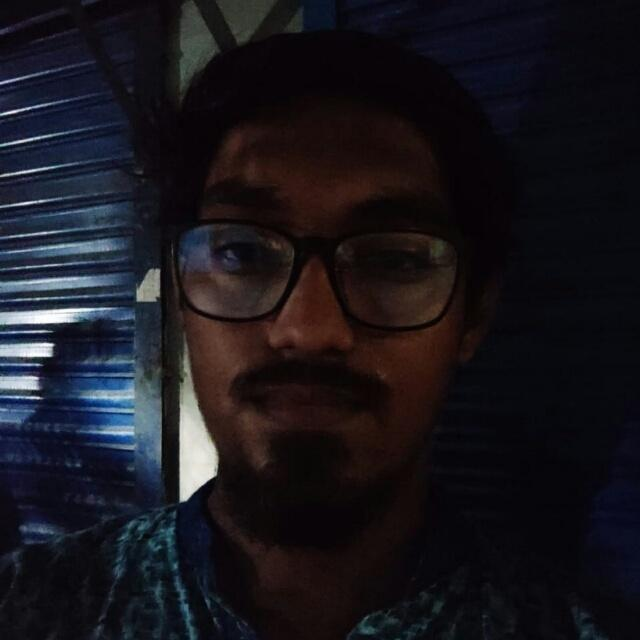Natural: (105, 36, 498, 576)
